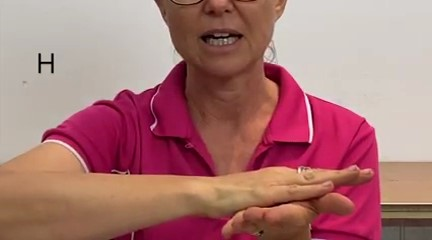H: (193, 158, 386, 240)
